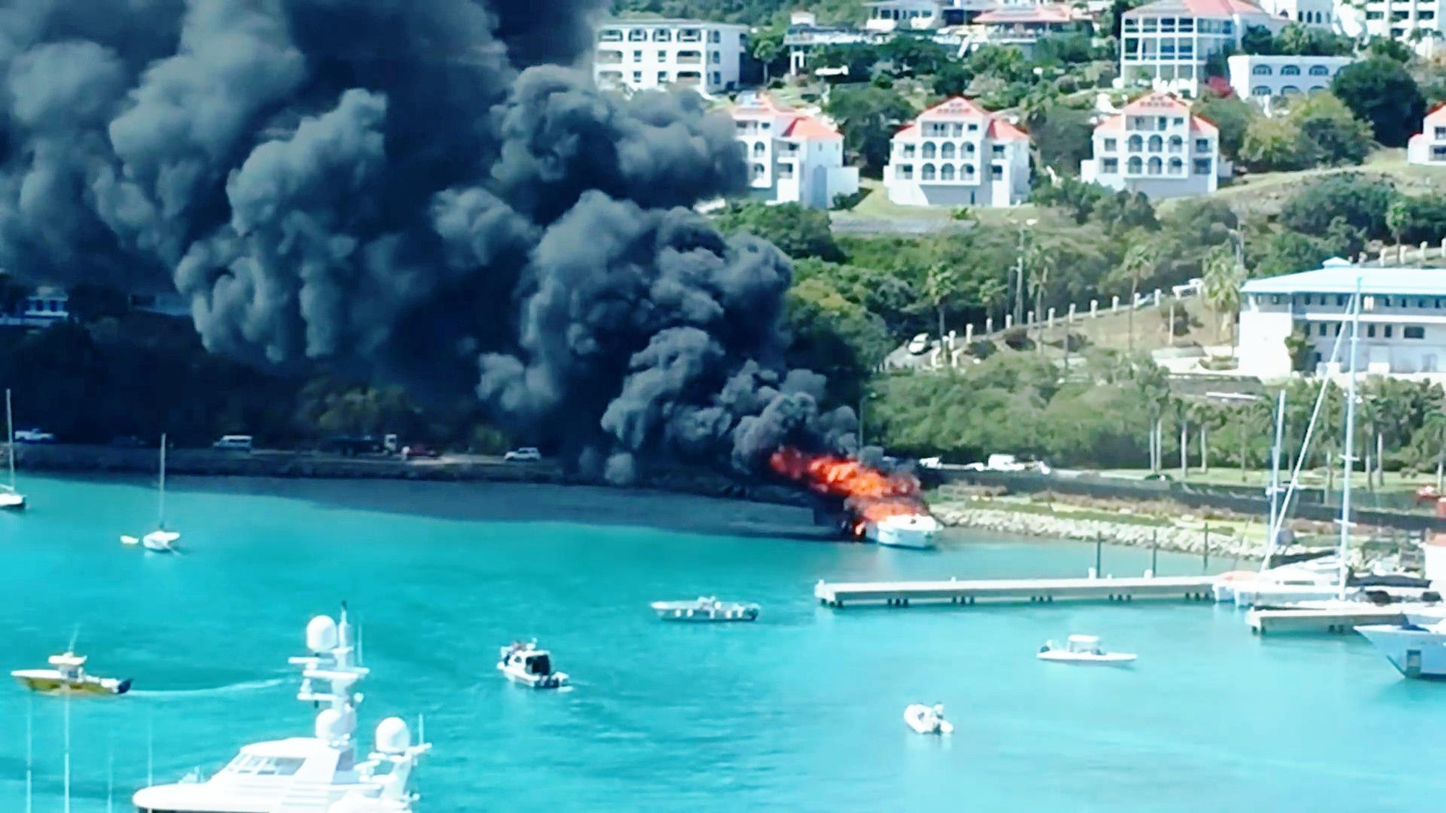smoke: (0, 0, 526, 318), (448, 96, 712, 444), (694, 371, 840, 470)
